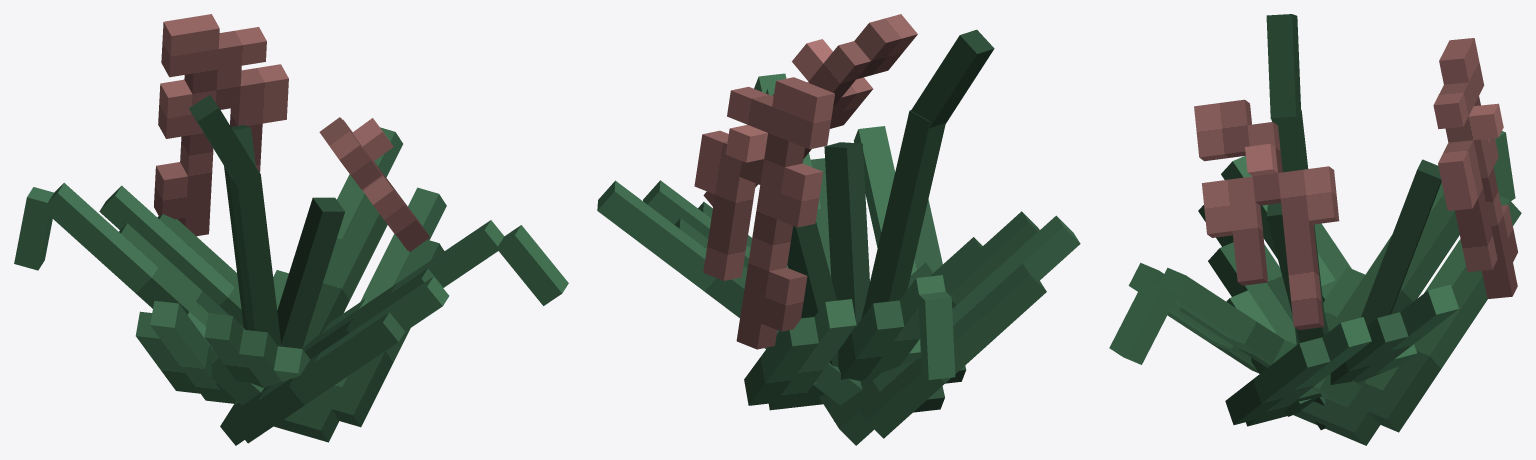
3 renders of one model, left to right at view 1: azimuth 30°, elevation 25°; view 2: azimuth 150°, elevation 25°; view 3: azimuth 270°, elevation 25°, orthographic. The views are drawn at different scales.
Parts seen in each view (by area): view 1: flower_1-Local, red_4-Local, red_1-Local, red_2-Local, red_3-Local, yellow_3-Local, flower_3-Local, yellow_2-Local, bend2-Local, flower_2-Local, bend_1-Local, yellow_1-Local; view 2: flower_1-Local, red_3-Local, red_4-Local, red_1-Local, yellow_2-Local, flower_3-Local, yellow_3-Local, red_2-Local, flower_2-Local, bend_1-Local, yellow_1-Local; view 3: flower_3-Local, red_4-Local, flower_1-Local, red_1-Local, red_2-Local, red_3-Local, yellow_1-Local, flower_2-Local, bend2-Local, yellow_2-Local, yellow_3-Local, bend_1-Local.
Boxes of the visible parts, x1=… form: flower_1-Local: x1=154, y1=14, x2=288, y2=236; red_4-Local: x1=42, y1=183, x2=263, y2=405; red_1-Local: x1=234, y1=127, x2=446, y2=442; red_2-Local: x1=220, y1=220, x2=504, y2=445; red_3-Local: x1=135, y1=300, x2=316, y2=403; yellow_3-Local: x1=277, y1=197, x2=344, y2=348; flower_3-Local: x1=319, y1=117, x2=430, y2=251; yellow_2-Local: x1=229, y1=164, x2=281, y2=346; bend2-Local: x1=496, y1=225, x2=568, y2=305; flower_2-Local: x1=189, y1=95, x2=260, y2=188; bend_1-Local: x1=14, y1=187, x2=53, y2=270; yellow_1-Local: x1=224, y1=125, x2=255, y2=329; flower_1-Local: x1=694, y1=77, x2=834, y2=349; red_3-Local: x1=819, y1=211, x2=1080, y2=445; red_4-Local: x1=744, y1=275, x2=945, y2=410; red_1-Local: x1=597, y1=180, x2=862, y2=405; yellow_2-Local: x1=861, y1=110, x2=945, y2=318; flower_3-Local: x1=703, y1=14, x2=917, y2=206; yellow_3-Local: x1=824, y1=142, x2=869, y2=337; red_2-Local: x1=765, y1=88, x2=966, y2=421; flower_2-Local: x1=911, y1=29, x2=994, y2=128; bend_1-Local: x1=918, y1=291, x2=955, y2=379; yellow_1-Local: x1=787, y1=221, x2=847, y2=366; flower_3-Local: x1=1194, y1=99, x2=1339, y2=330; red_4-Local: x1=1293, y1=182, x2=1521, y2=445; flower_1-Local: x1=1433, y1=38, x2=1517, y2=298; red_1-Local: x1=1225, y1=284, x2=1458, y2=426; red_2-Local: x1=1128, y1=262, x2=1361, y2=407; red_3-Local: x1=1198, y1=156, x2=1351, y2=429; yellow_1-Local: x1=1361, y1=159, x2=1441, y2=325; flower_2-Local: x1=1266, y1=14, x2=1300, y2=119; bend2-Local: x1=1109, y1=279, x2=1175, y2=364; yellow_2-Local: x1=1271, y1=109, x2=1324, y2=344; yellow_3-Local: x1=1266, y1=203, x2=1328, y2=342; bend_1-Local: x1=1493, y1=131, x2=1515, y2=200.
Bounding box in the file's own units: 16.99 × 15.59 × 15.82.
Materials: 12 (12 with a texture image).
